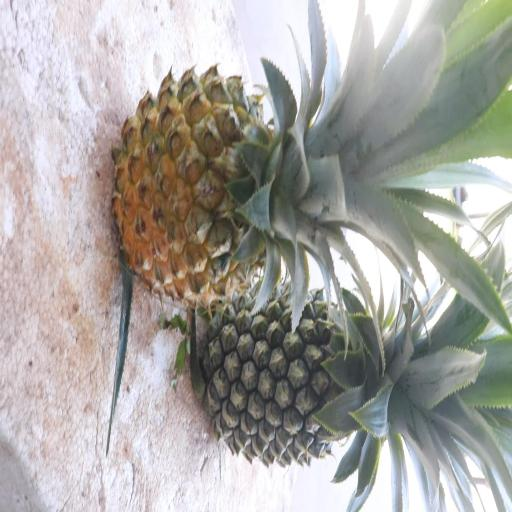Pineapple - v8 v1: (110, 60, 402, 309)
